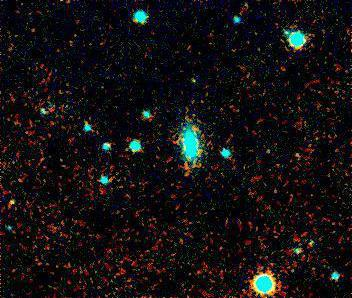star: (0, 190, 21, 220)
